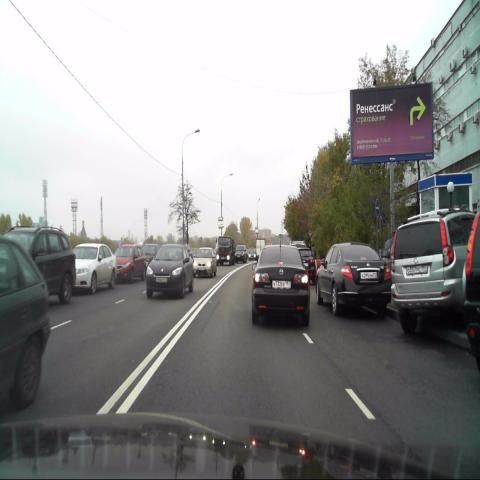4_1_2_1: (374, 195, 381, 218)
